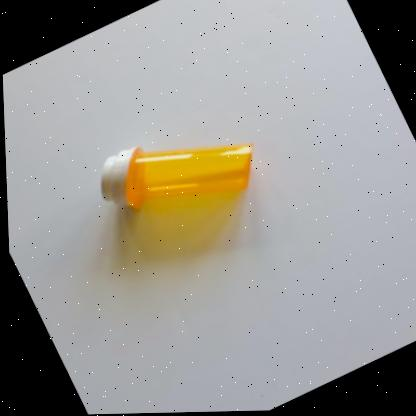Plastic: (98, 145, 252, 208)
